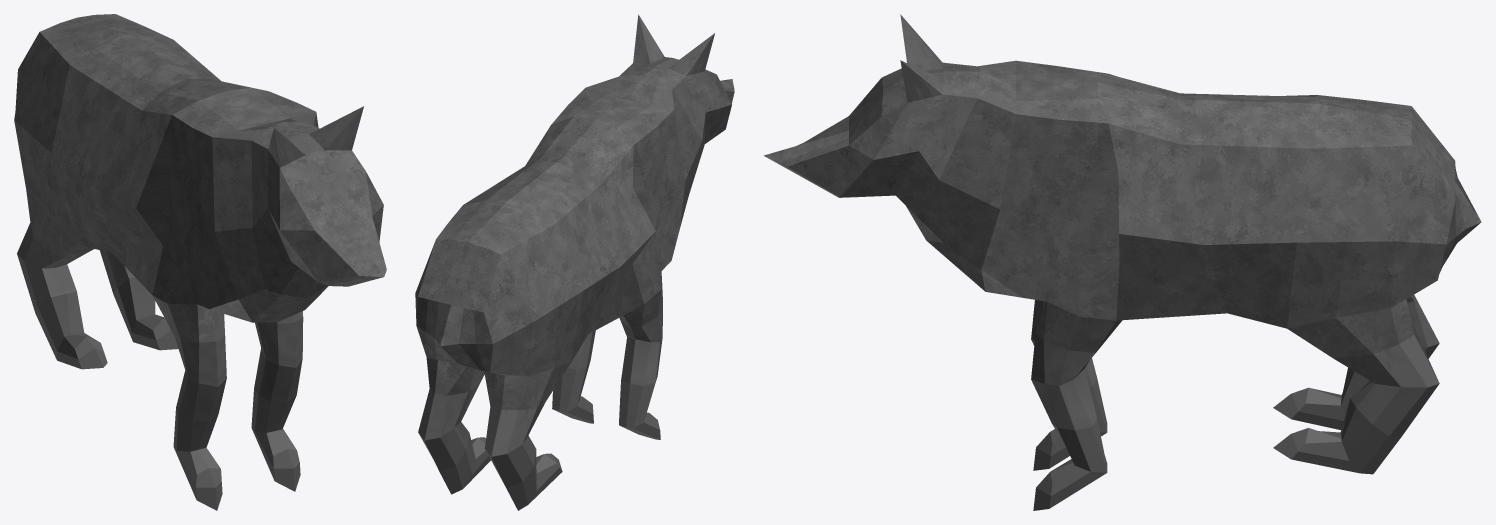
File: piesblend_000034.obj
3 views of the same model, side by side, from view 1: azimuth 30°, elevation 25°; view 2: azimuth 150°, elevation 25°; view 3: azimuth 270°, elevation 25° (orthographic). The views are drawn at different scales.
Visible parts, largest first — view 1: Cube; view 2: Cube; view 3: Cube.
Boxes of the visible parts, x1,y1,x2,y2 form: Cube: (14, 14, 386, 510); Cube: (415, 14, 734, 510); Cube: (763, 14, 1481, 510).
Size of the model in its own units: 2.56 by 6.61 by 9.49.
Materials: 1 (1 with a texture image).
